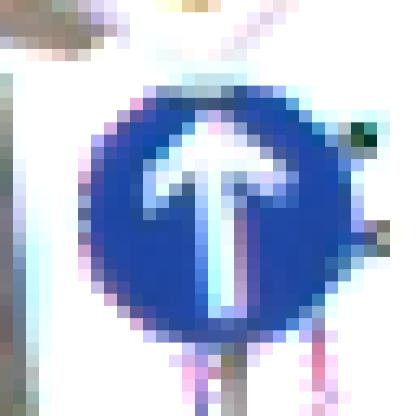AheadOnly: (66, 74, 352, 356)
